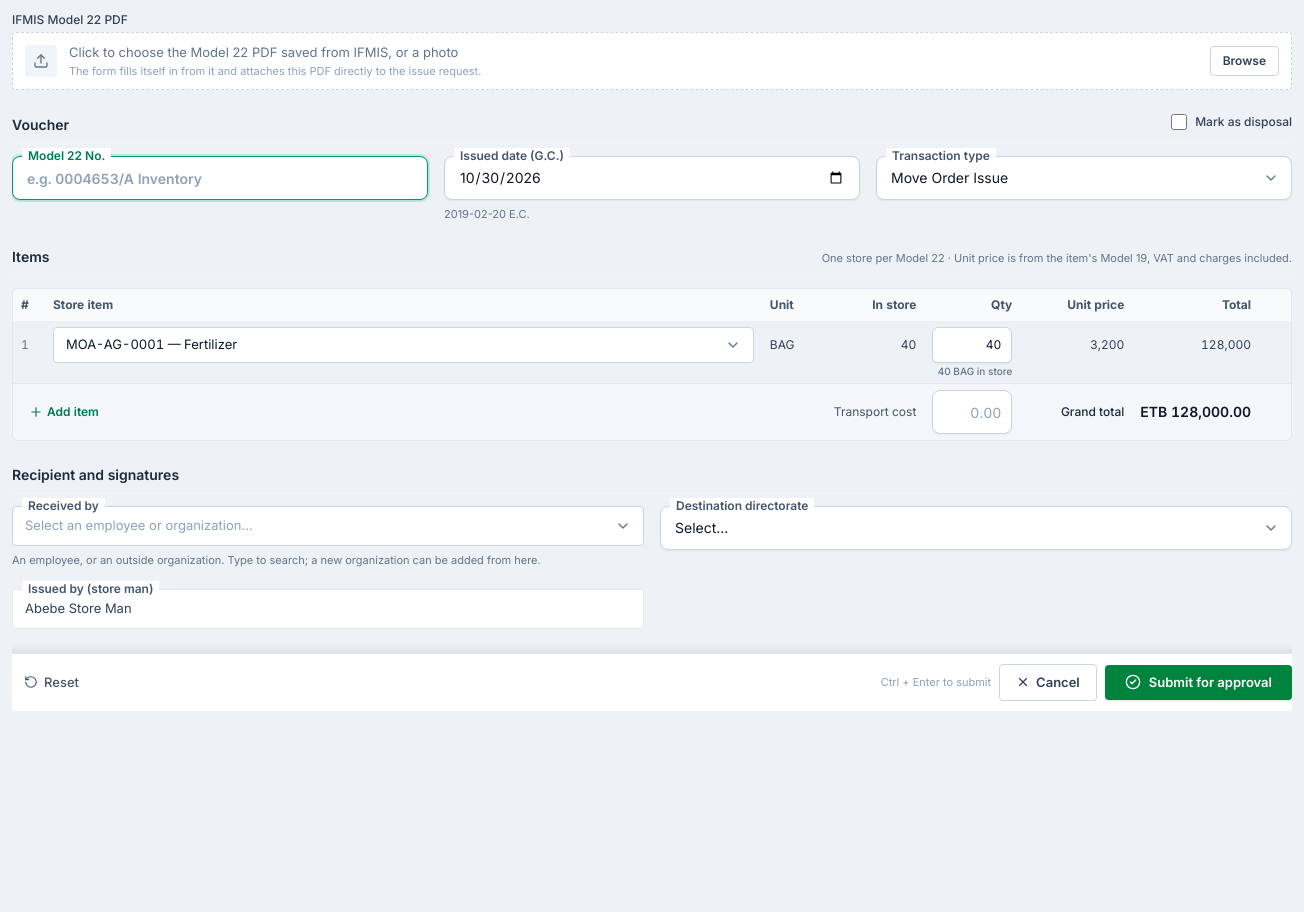
Test: Issue items (Model 22): one picker for an employee or an organization › lists employees and organizations together: no Internal / External choice
The image size is (1304, 912).
Click the dropdown named "Received by".
click(139, 525)  # box [12,506,644,546]
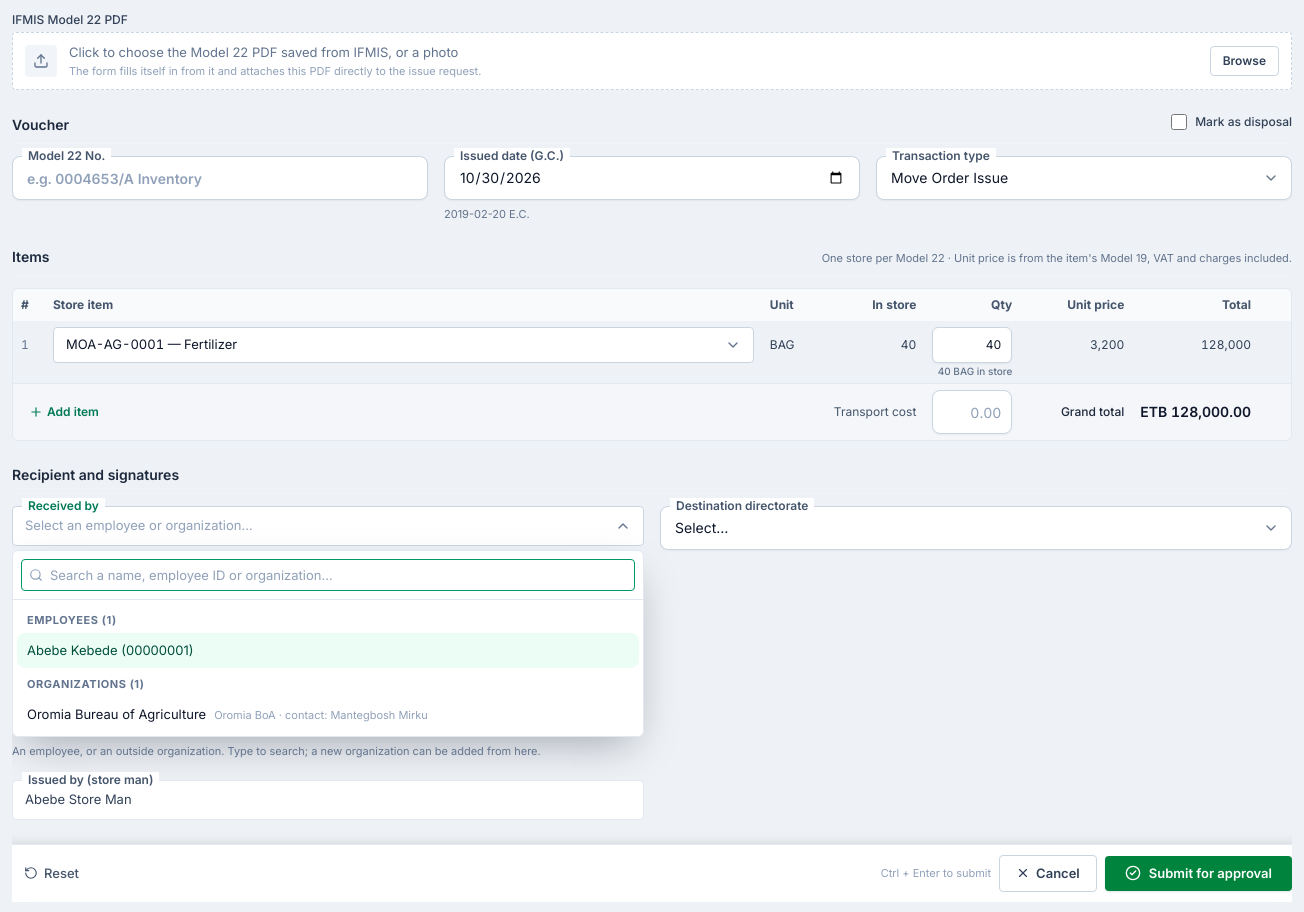
expect the list named "Organizations" shows "Oromia Bureau of Agriculture": met, box [27,706,206,722]
expect the list named "Employees" reads "Abebe Kebede (00000001)": met, box [27,642,193,658]
Click the option "Abebe Kebede (00000001)".
click(110, 650)  # box [17,632,639,668]
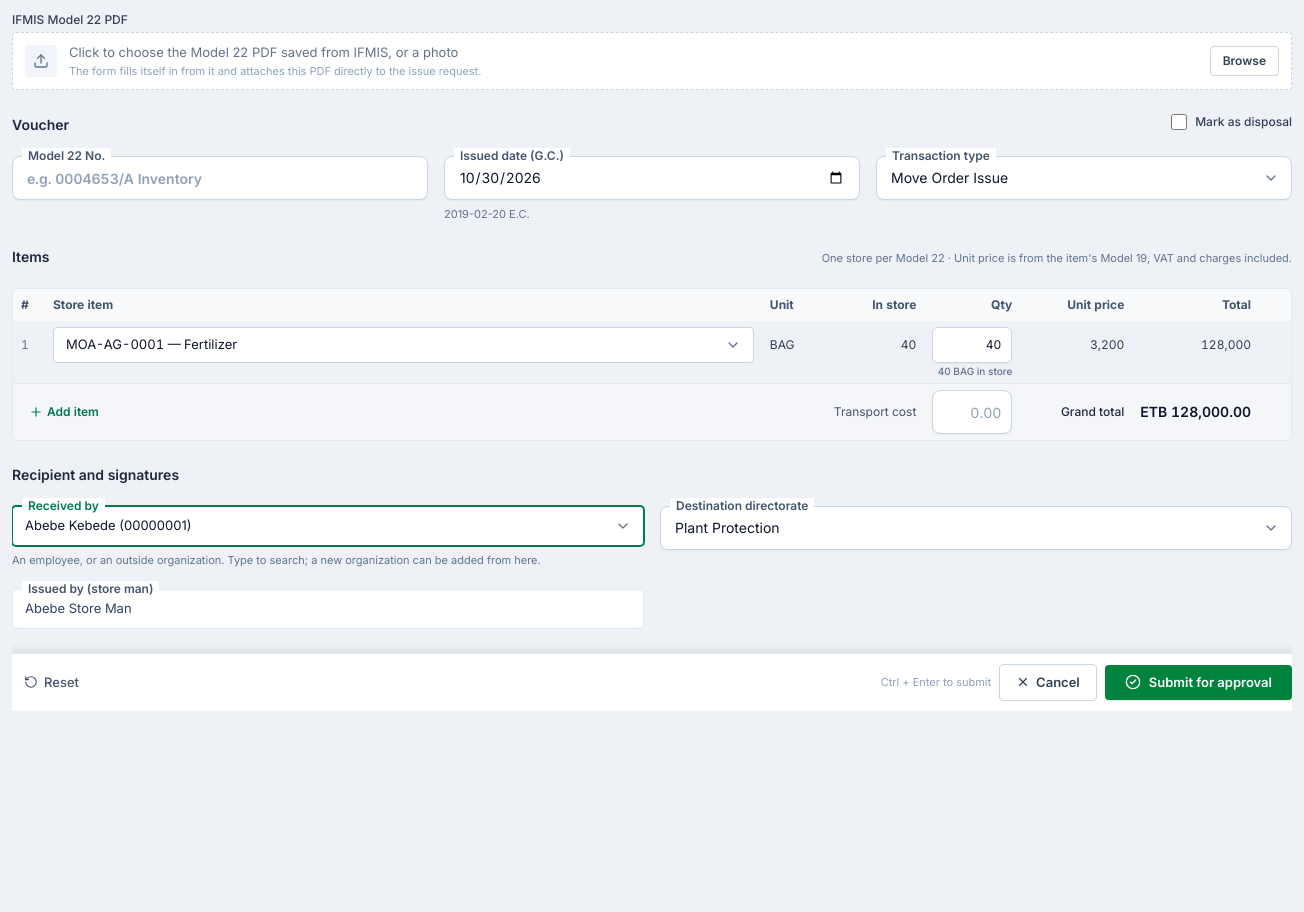
expect the field labelled "Contact person" is not shown: met
expect the dropdown labelled "Destination directorate" shows "Plant Protection": met, box [660,506,1292,550]
Click the dropdown named "Received by".
click(108, 525)  # box [12,506,644,546]
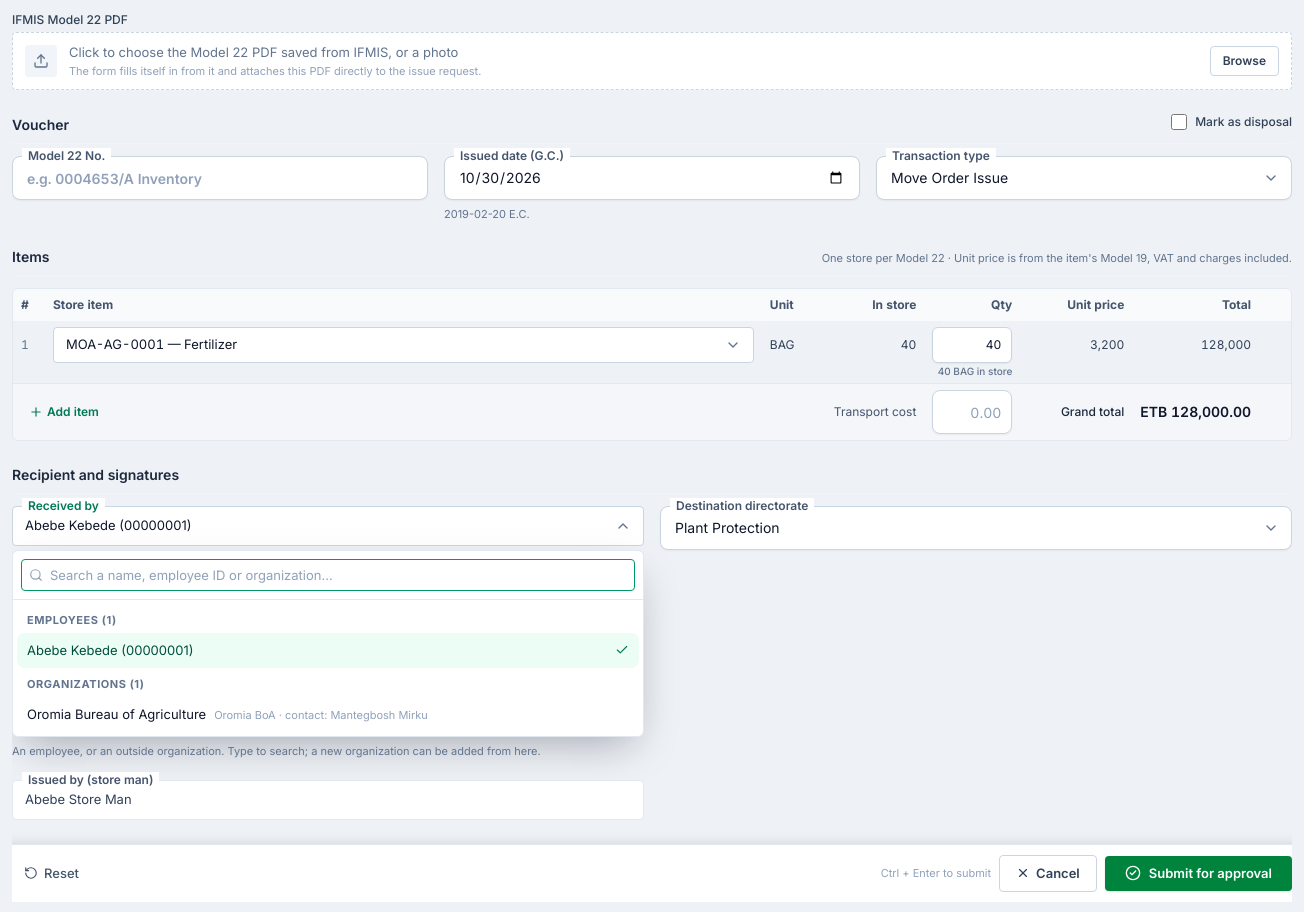
Type "Oromia BoA" into the field named "Search the list".
click(328, 575); type("Oromia BoA")  # box [21,559,635,591]
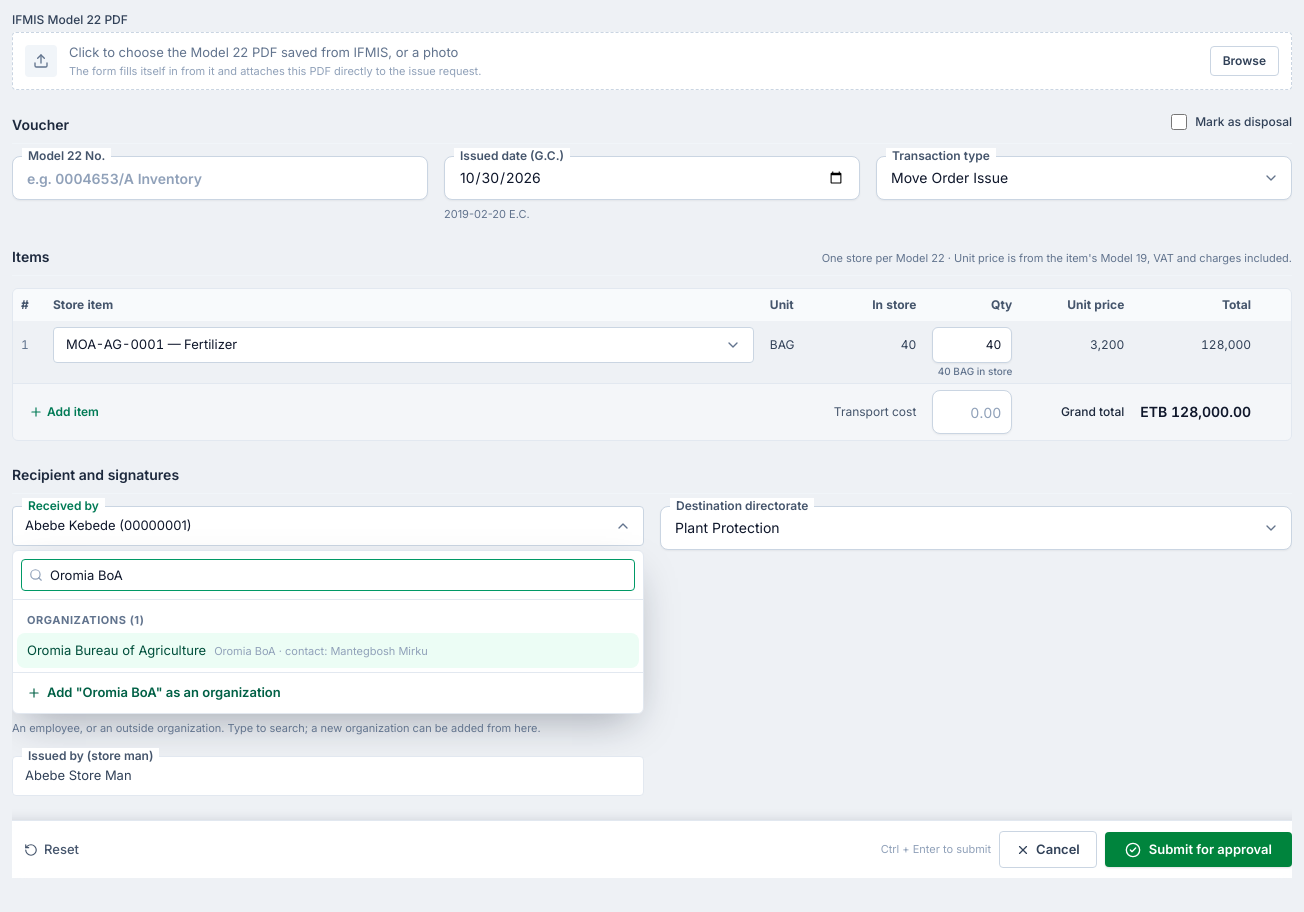
Click the option "Oromia Bureau of Agriculture".
click(328, 650)  # box [17,632,639,668]
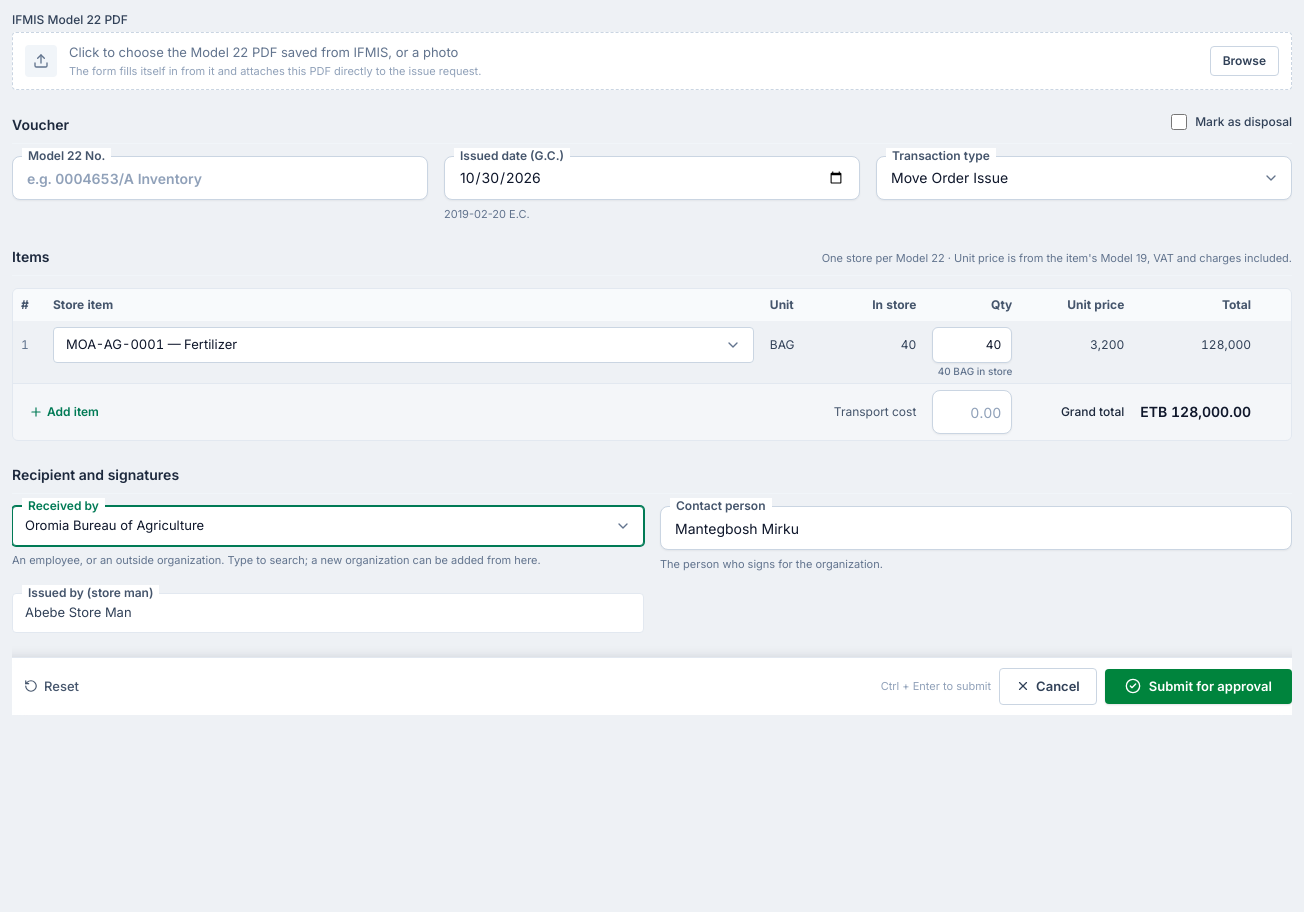
expect the field labelled "Contact person" holds "Mantegbosh Mirku": met, box [660,506,1292,550]
expect the label labelled "Destination directorate" is gone: met
